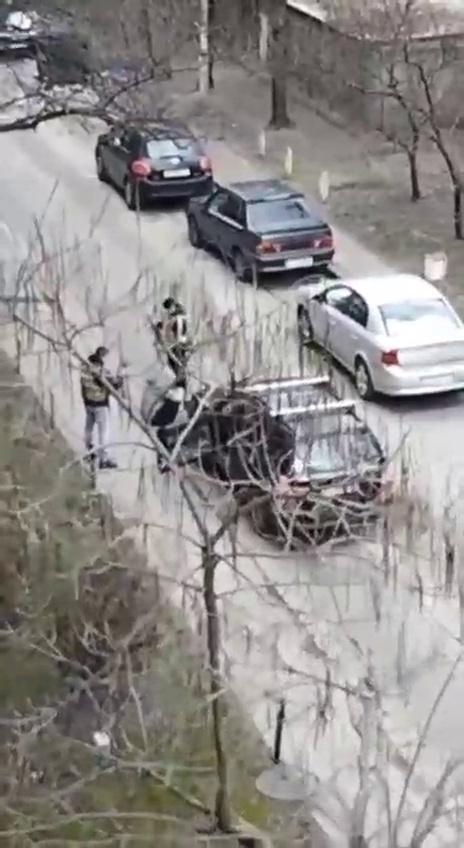car: (194, 377, 393, 540), (297, 272, 464, 399), (185, 178, 336, 280), (96, 118, 214, 210)
person: (80, 345, 124, 468), (155, 296, 191, 388)
